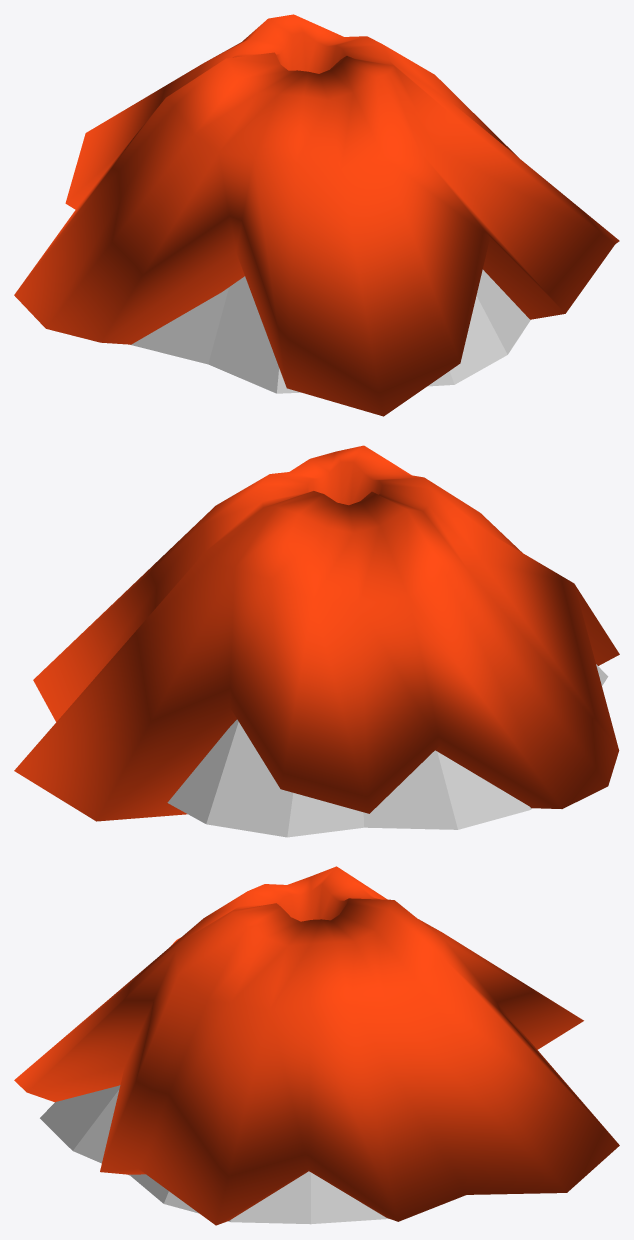
Rendered from volcano (1).fbx.
The picture shows the model from 3 angles, top to bottom: view 1: azimuth 30°, elevation 25°; view 2: azimuth 150°, elevation 25°; view 3: azimuth 270°, elevation 25°; orthographic projection. The views are drawn at different scales.
Visible parts, largest first — view 1: Lava, vulcano; view 2: Lava, vulcano; view 3: Lava, vulcano.
Part boxes in pixels (box(x1,y1,x2,y2)): Lava: box(14, 14, 619, 416); vulcano: box(130, 269, 530, 393); Lava: box(14, 445, 619, 821); vulcano: box(167, 664, 608, 837); Lava: box(14, 866, 619, 1225); vulcano: box(40, 1085, 388, 1224).
Bounding box in the file's own units: 5411 × 3079 × 5788.
